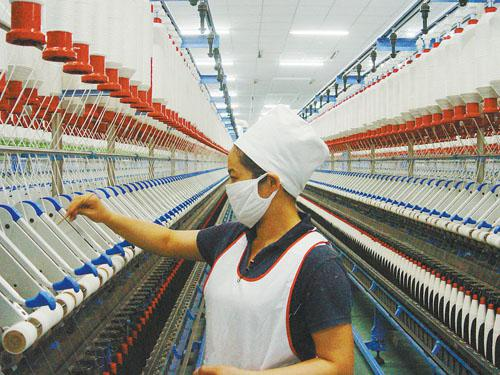OK: (224, 166, 287, 227)
